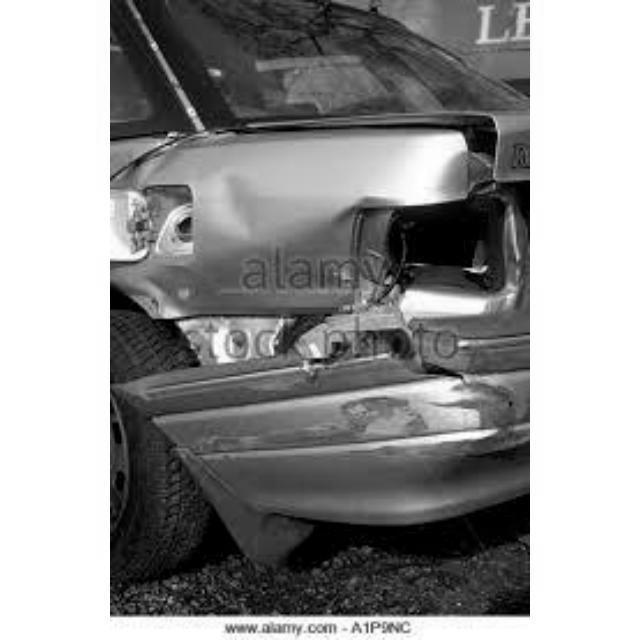quaterpanel-dent: (179, 125, 449, 319)
rear-bumper-dent: (126, 328, 528, 526)
